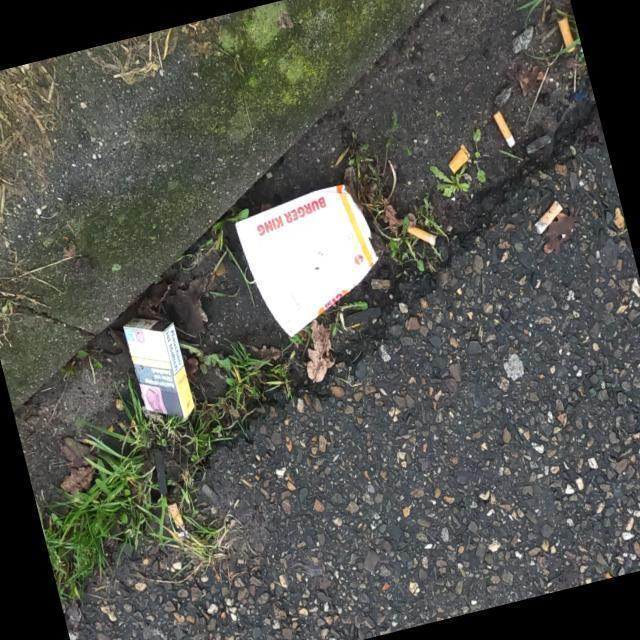Cup: (233, 182, 380, 340)
Paper: (120, 312, 198, 424)
